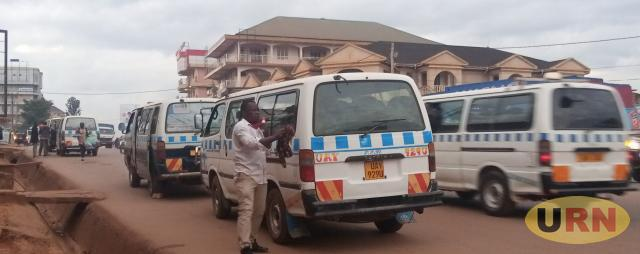van: (267, 71, 434, 240), (439, 73, 636, 212), (118, 95, 200, 194), (58, 114, 103, 158)
